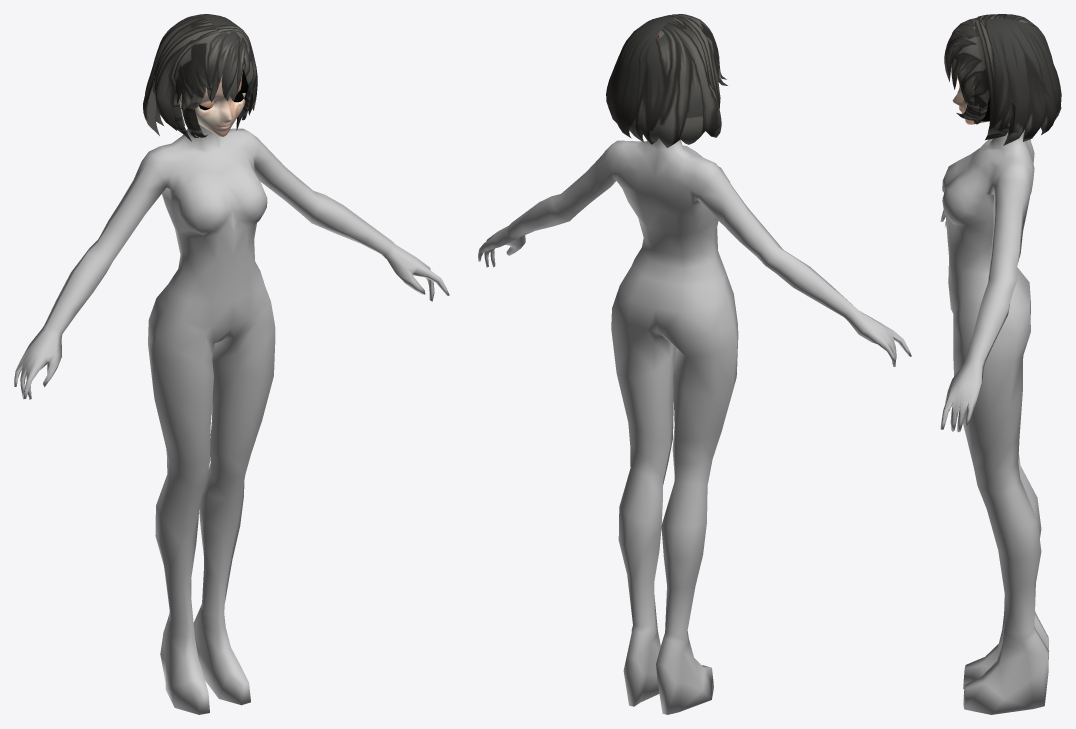
Rendered from Lolita.FBX.
The picture shows the model from 3 angles, left to right: view 1: azimuth 30°, elevation 25°; view 2: azimuth 150°, elevation 25°; view 3: azimuth 270°, elevation 25°; orthographic projection.
Parts seen in each view (by area): view 1: Lolita_Body, Lolita_Hair, Lolita_Head; view 2: Lolita_Body, Lolita_Hair; view 3: Lolita_Body, Lolita_Hair, Lolita_Head.
Part boxes in pixels (x1=…): Lolita_Body: x1=14, y1=124, x2=449, y2=714; Lolita_Hair: x1=143, y1=14, x2=257, y2=141; Lolita_Head: x1=179, y1=69, x2=248, y2=136; Lolita_Body: x1=478, y1=138, x2=911, y2=714; Lolita_Hair: x1=606, y1=14, x2=727, y2=147; Lolita_Body: x1=940, y1=130, x2=1049, y2=714; Lolita_Hair: x1=944, y1=14, x2=1061, y2=145; Lolita_Head: x1=952, y1=74, x2=990, y2=124.
Size of the model in its own units: 110 by 167 by 26.98.
